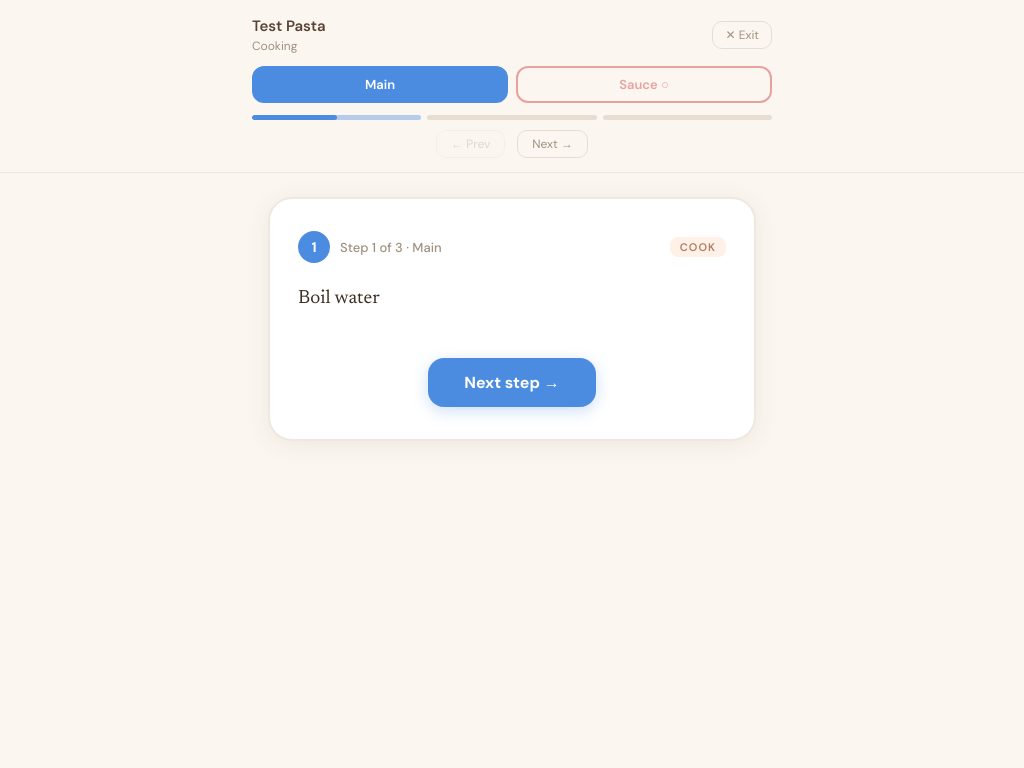
Test: CookingView › step review navigation › clicking Next shows future step as preview
Click the button "Next →": [553, 144] box [517,130,588,158]
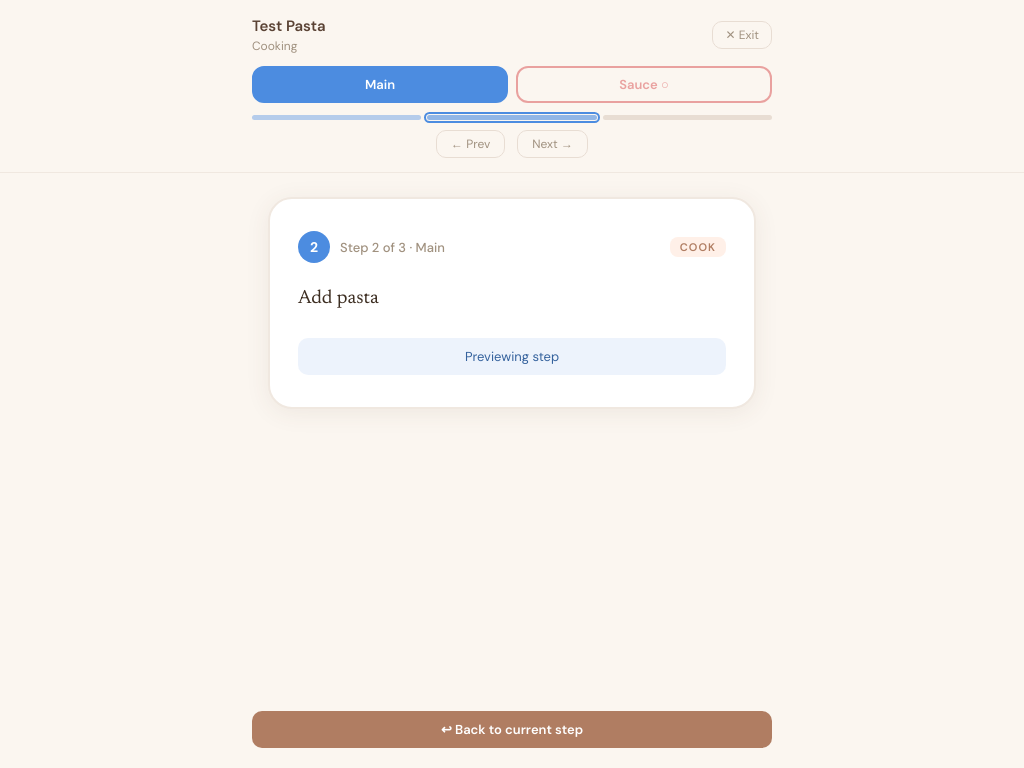
Check: the text "Add pasta" is shown, box [298,289,379,308]
Check: the text "Previewing step" is shown, box [298,338,726,375]
